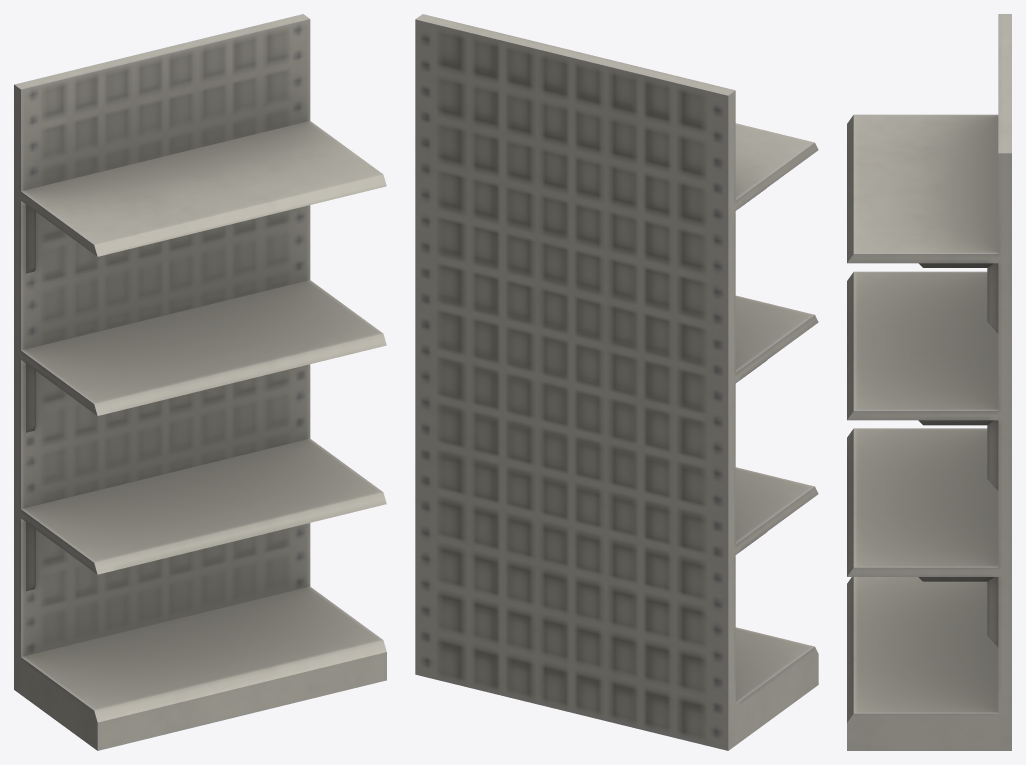
File: sb_obj_ModernCity061_store_shelf_a.fbx
3 views of the same model, side by side, from view 1: azimuth 30°, elevation 25°; view 2: azimuth 150°, elevation 25°; view 3: azimuth 270°, elevation 25° (orthographic). The views are drawn at different scales.
Parts seen in each view (by area): view 1: sb_obj_ModernCity061_store_shelf_a; view 2: sb_obj_ModernCity061_store_shelf_a; view 3: sb_obj_ModernCity061_store_shelf_a.
Boxes of the visible parts, <box> form: sb_obj_ModernCity061_store_shelf_a: <box>14,14,386,750</box>; sb_obj_ModernCity061_store_shelf_a: <box>415,14,818,750</box>; sb_obj_ModernCity061_store_shelf_a: <box>847,14,1011,750</box>.
Size of the model in its own units: 0.64 by 1.28 by 0.32.
1 material, 1 textured.
